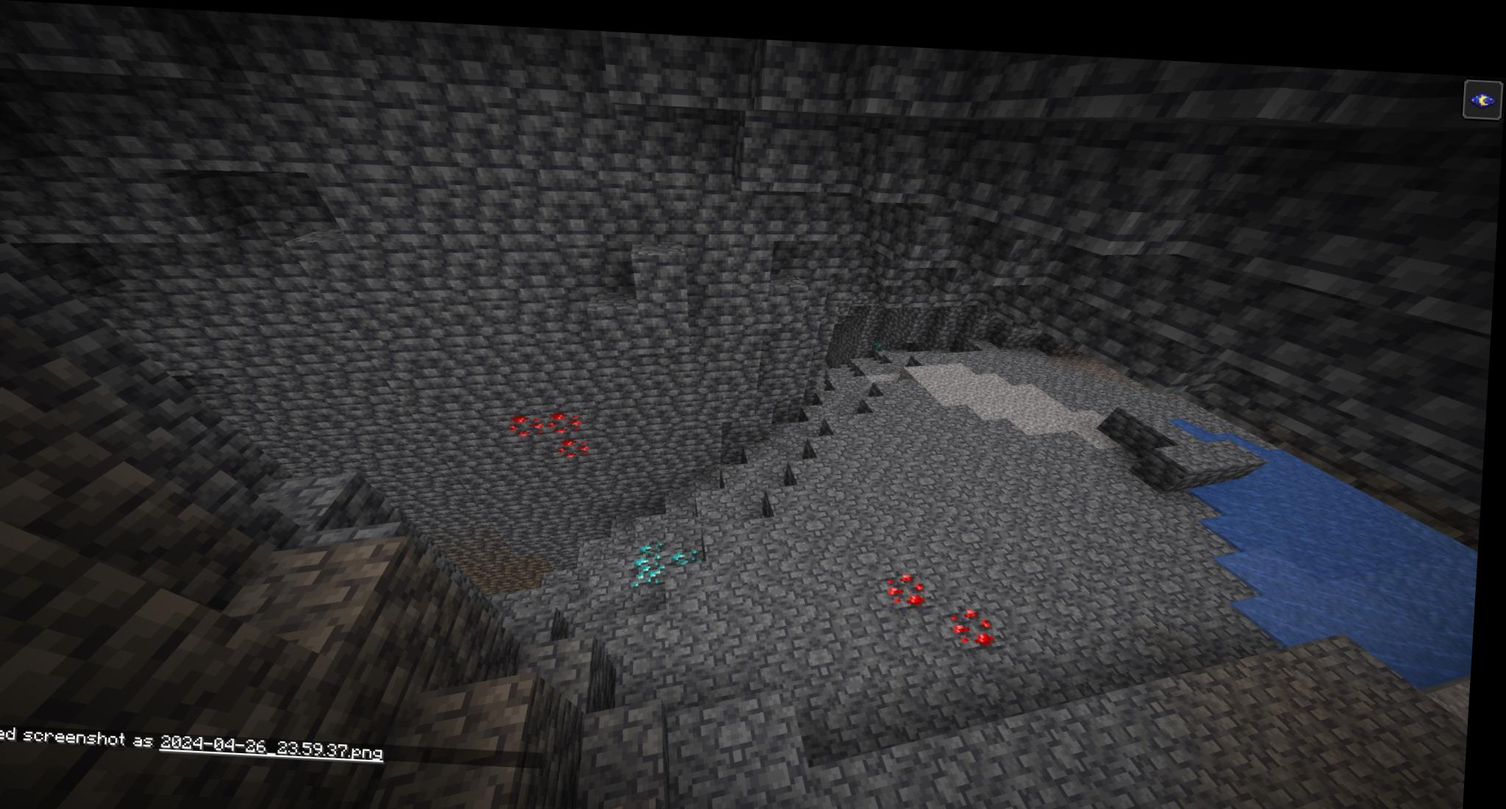diamond ore: (641, 530, 713, 583)
redstone ore: (947, 592, 1002, 641), (887, 556, 936, 599), (548, 396, 589, 431), (512, 405, 553, 436), (560, 424, 597, 457)
